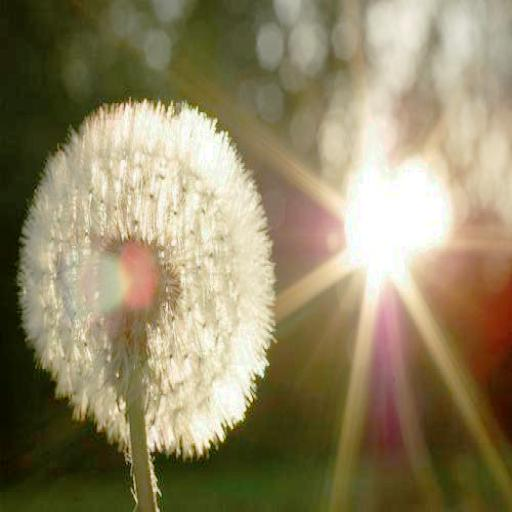dandelion: (14, 100, 276, 450)
